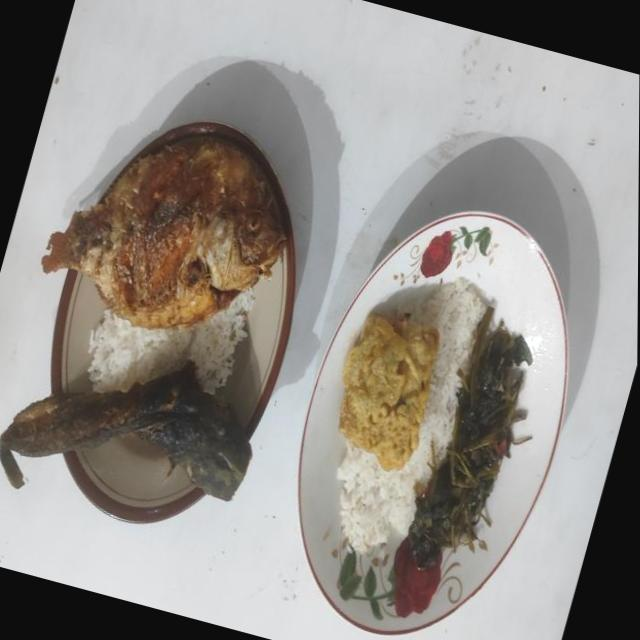ikan_mujair: (42, 138, 286, 328)
nasi_putih: (337, 277, 485, 554), (87, 288, 254, 394)
tumis_kangkung: (408, 306, 532, 569)
